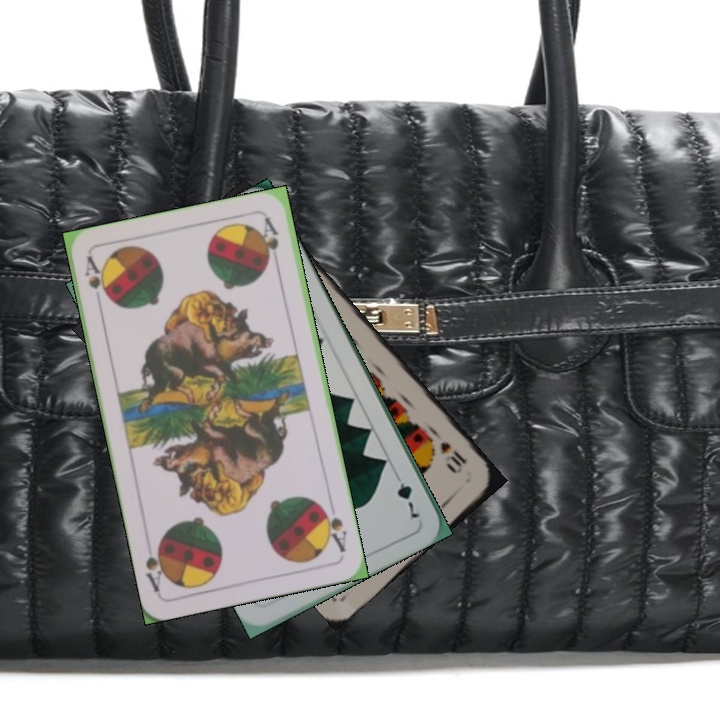G7: (389, 467, 423, 521)
S10: (436, 437, 470, 475)
SA: (80, 252, 111, 311), (317, 500, 350, 555)
